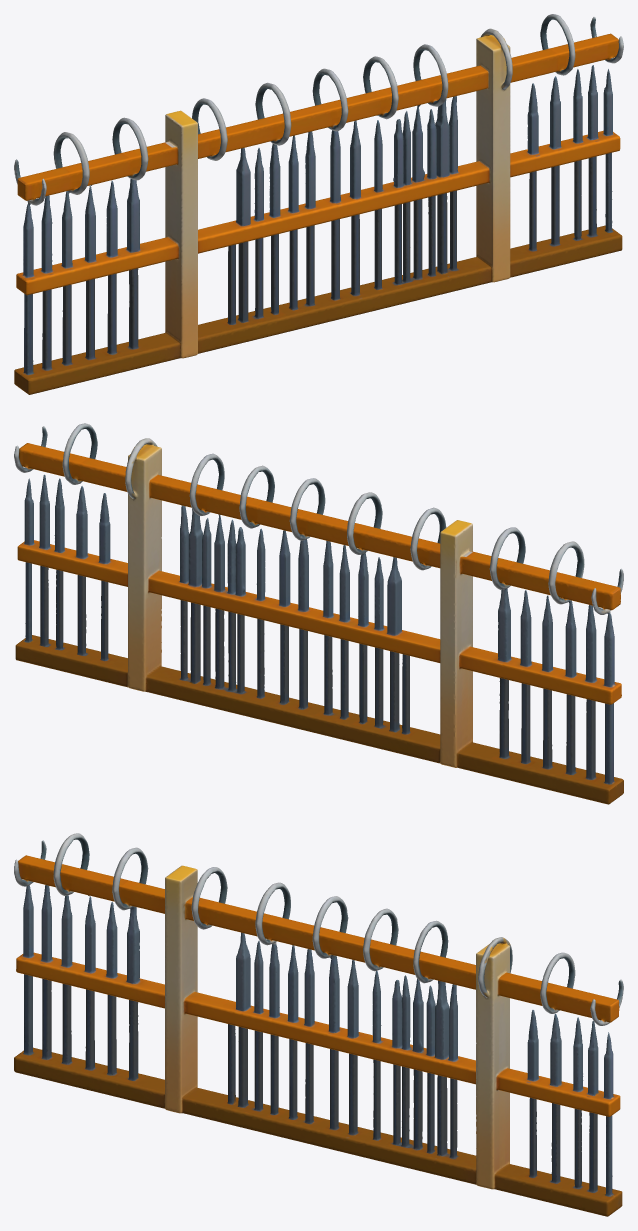
Rendered from tripo_convert_62ed36e0-f75f-483a-9a72-5988aa53965f.fbx.
3 renders of one model, top to bottom at view 1: azimuth 30°, elevation 25°; view 2: azimuth 150°, elevation 25°; view 3: azimuth 330°, elevation 25°, orthographic.
Visible parts, largest first — view 1: tripo_node_62ed36e0; view 2: tripo_node_62ed36e0; view 3: tripo_node_62ed36e0.
Boxes of the visible parts, x1,y1,x2,y2 form: tripo_node_62ed36e0: (14, 14, 623, 394); tripo_node_62ed36e0: (14, 423, 623, 804); tripo_node_62ed36e0: (14, 833, 623, 1216).
Bounding box in the file's own units: 1 × 0.3931 × 0.0959.
Materials: 1 (1 with a texture image).
